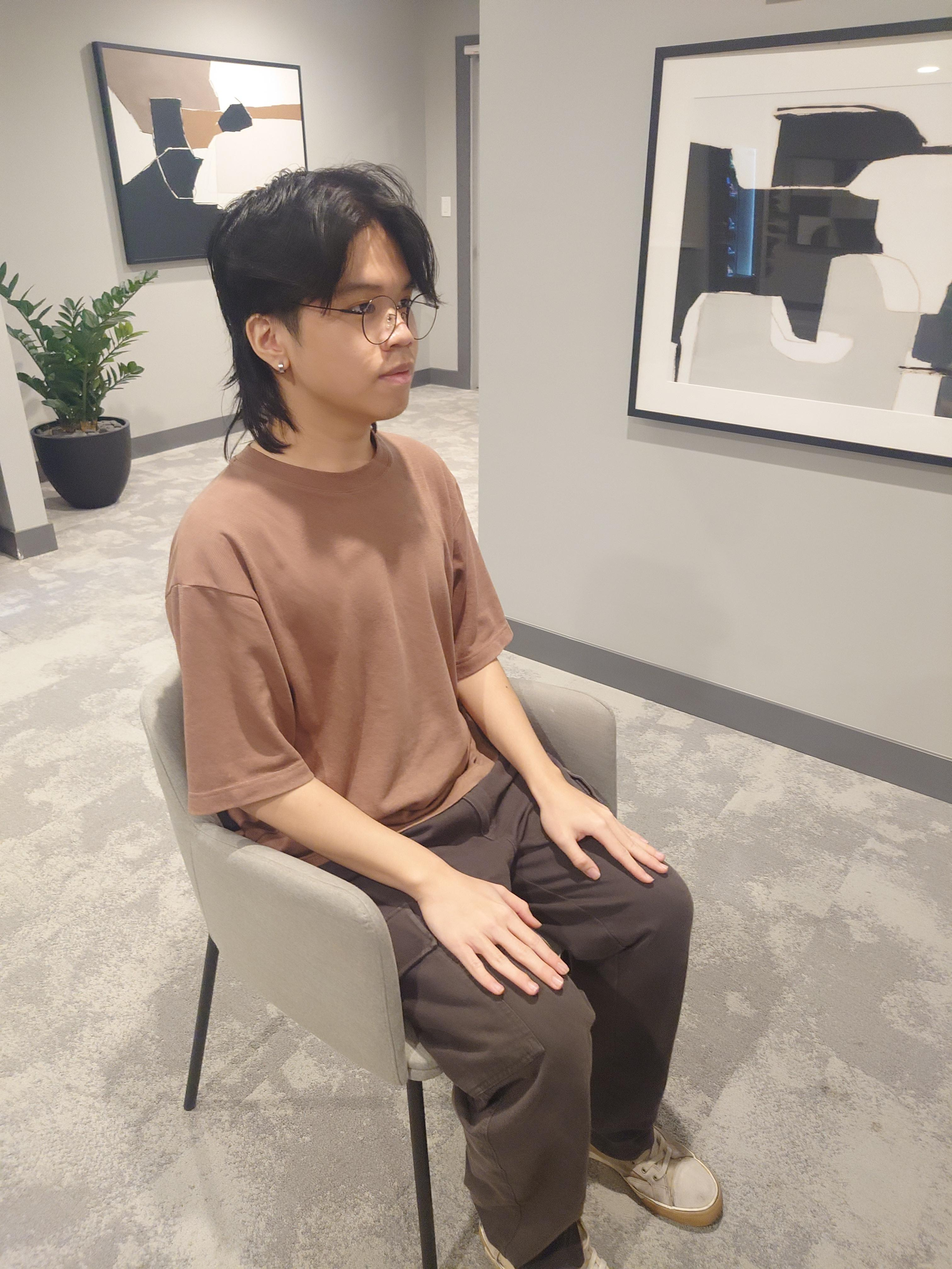GoodPosture: (163, 167, 723, 1269)
